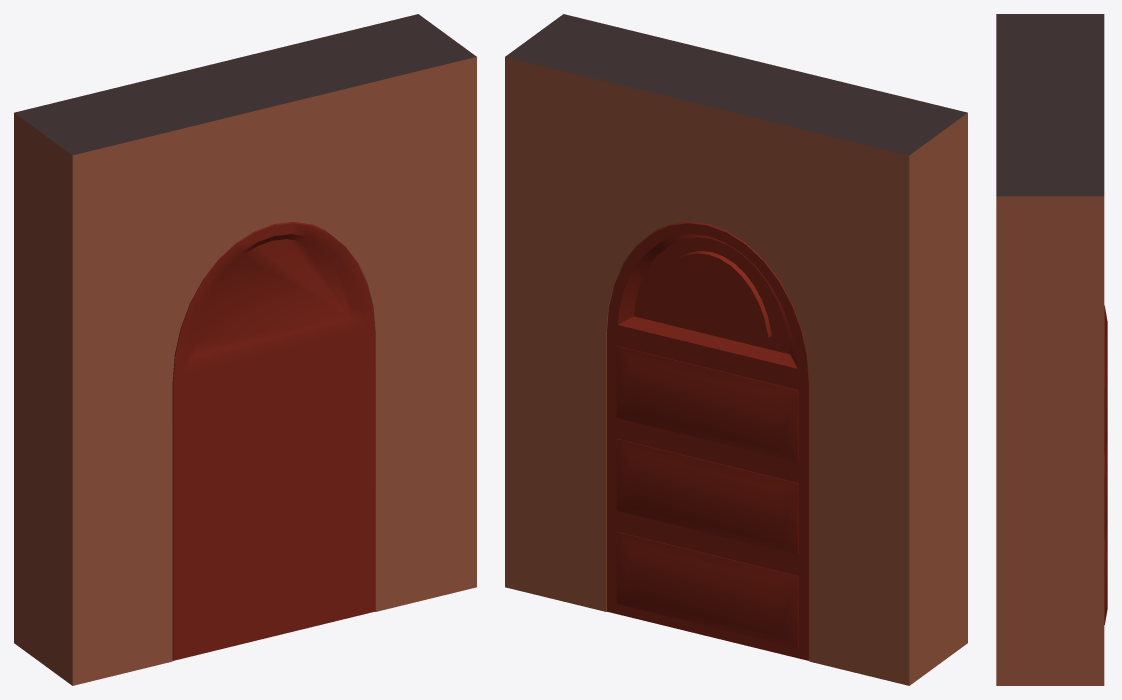
Rendered from Outside door 1.fbx.
The picture shows the model from 3 angles, left to right: view 1: azimuth 30°, elevation 25°; view 2: azimuth 150°, elevation 25°; view 3: azimuth 270°, elevation 25°; orthographic projection. The views are drawn at different scales.
Visible parts, largest first — view 1: Cube.001; view 2: Cube.001; view 3: Cube.001.
Part boxes in pixels (bbox=[...]): Cube.001: bbox=[14, 14, 476, 685]; Cube.001: bbox=[505, 14, 967, 685]; Cube.001: bbox=[996, 14, 1107, 685].
Bounding box in the file's own units: 399 × 500 × 103.
